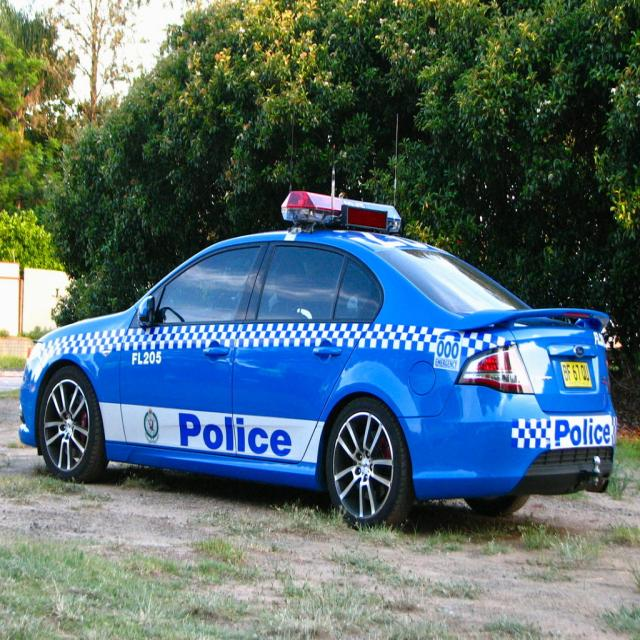Passenger Car: (15, 224, 619, 534)
